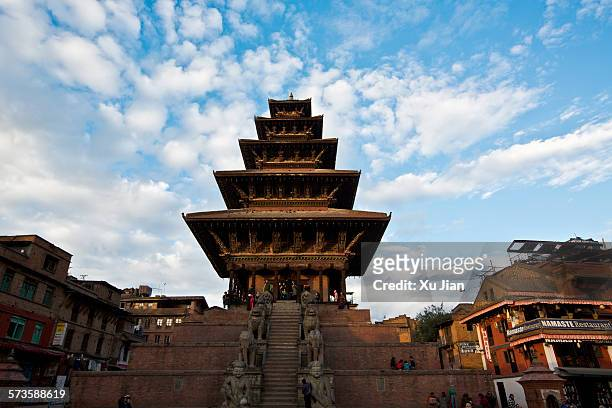nyathapola: (158, 68, 371, 349)
